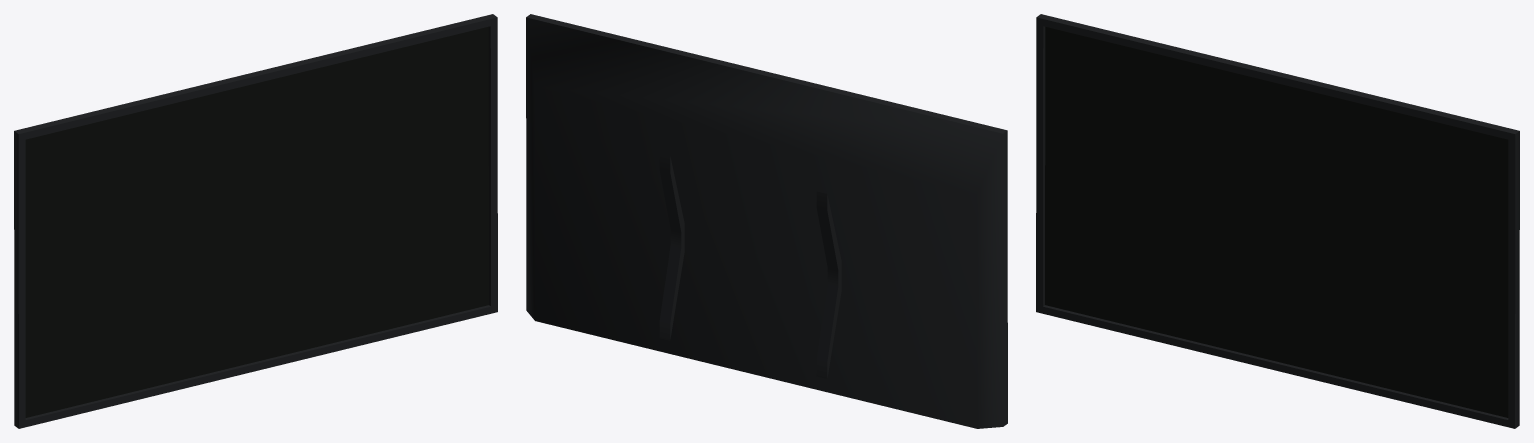
The model's file is Tv_Hanged.fbx.
3 renders of one model, left to right at view 1: azimuth 30°, elevation 25°; view 2: azimuth 150°, elevation 25°; view 3: azimuth 330°, elevation 25°, orthographic.
Parts seen in each view (by area): view 1: TV_Hanged; view 2: TV_Hanged; view 3: TV_Hanged.
Part boxes in pixels (bbox=[...]): TV_Hanged: bbox=[14, 14, 497, 428]; TV_Hanged: bbox=[526, 14, 1007, 428]; TV_Hanged: bbox=[1036, 14, 1519, 428].
Bounding box in the file's own units: 121 × 70.88 × 12.06.
